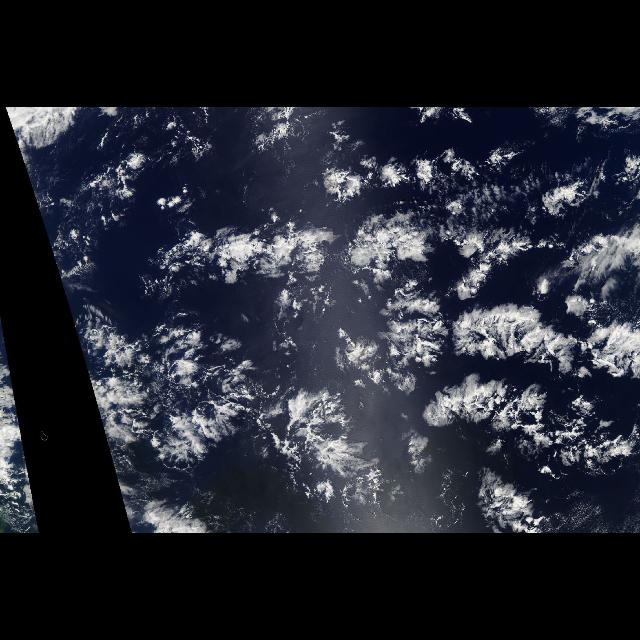Flower: (103, 111, 632, 527)
